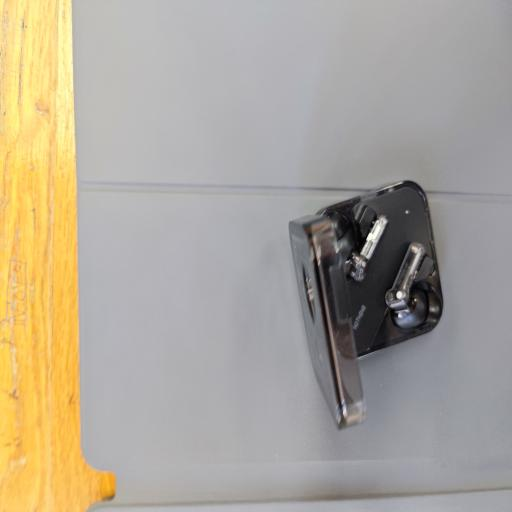Headphones: (284, 171, 450, 439)
